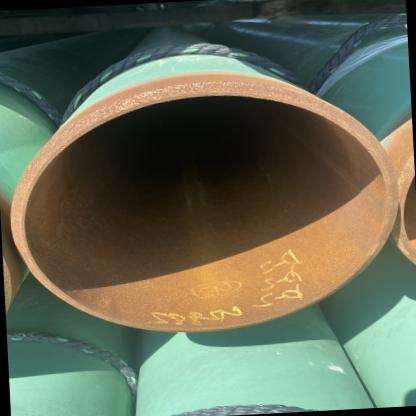clean: (209, 66, 261, 114)
